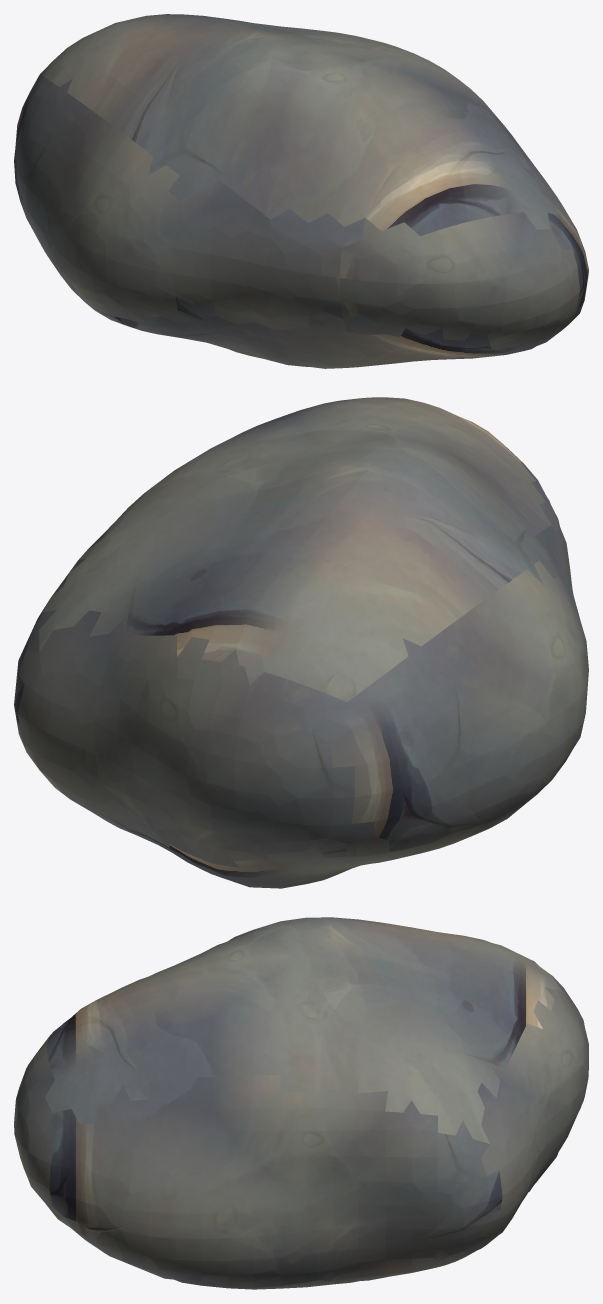
File: mossy_stone1_s16055.gltf
The picture shows the model from 3 angles, top to bottom: view 1: azimuth 30°, elevation 25°; view 2: azimuth 150°, elevation 25°; view 3: azimuth 270°, elevation 25°; orthographic projection. The views are drawn at different scales.
Parts seen in each view (by area): view 1: mossy_stone1_s16055_stone_LOD0; view 2: mossy_stone1_s16055_stone_LOD0; view 3: mossy_stone1_s16055_stone_LOD0.
Part boxes in pixels (x1,y1,x2,y2): mossy_stone1_s16055_stone_LOD0: (14,14,588,368); mossy_stone1_s16055_stone_LOD0: (14,397,588,888); mossy_stone1_s16055_stone_LOD0: (14,917,588,1289).
Size of what is drawn, in the model's own units: 0.5946 by 0.4291 by 0.7663.
Materials: 1 (1 with a texture image).
